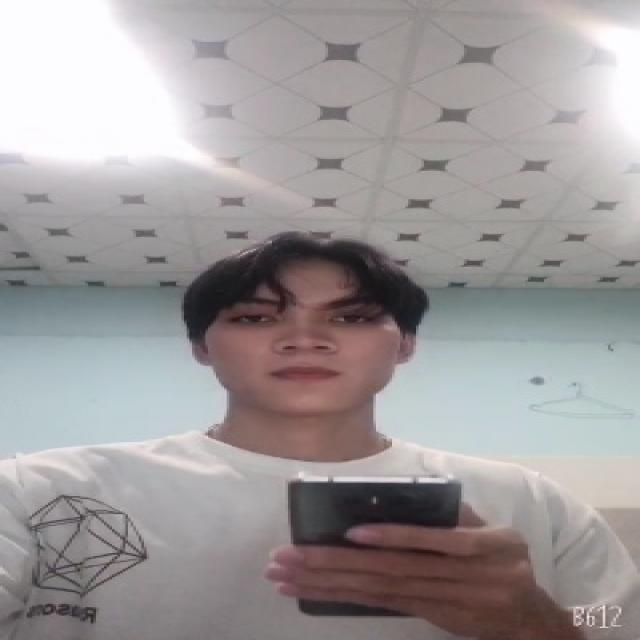Phone: (287, 473, 460, 621)
